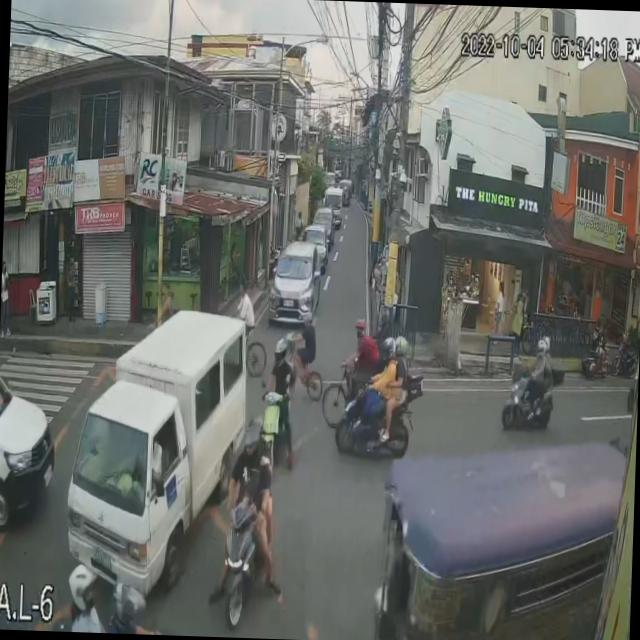full: (112, 582, 148, 627), (242, 426, 260, 466), (379, 336, 394, 364), (274, 337, 286, 365)
half: (67, 563, 97, 616), (393, 335, 408, 358)
